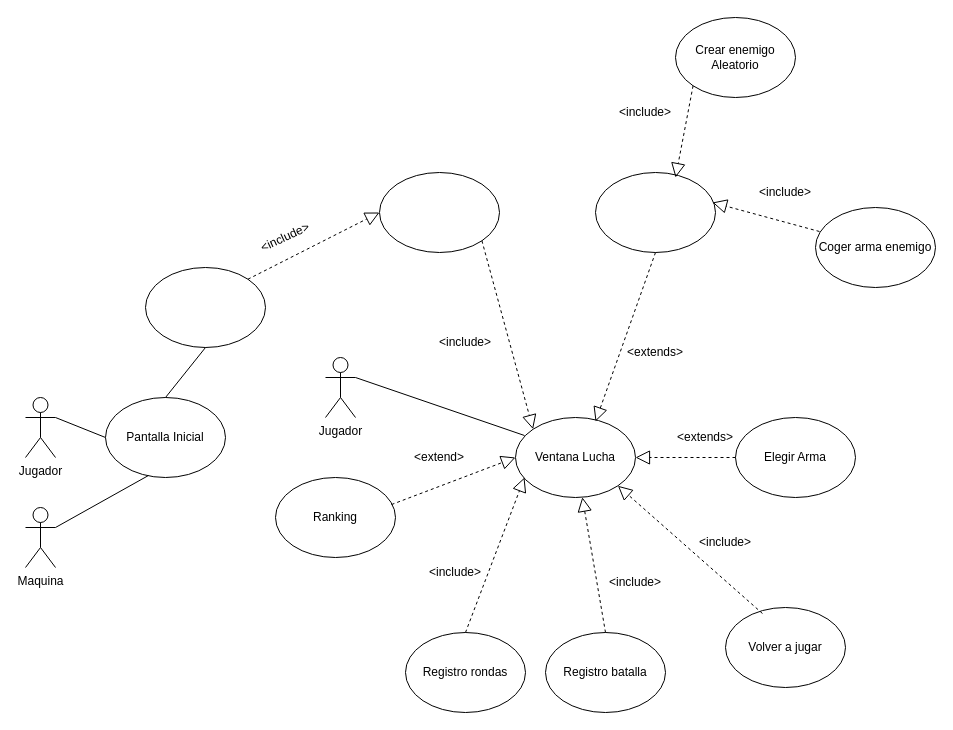
Some shapes in this 953 by 730 pixel diagram are drawn without their labels. The shapes that lost their labels are listed below. From the top down, each one's centre as x and y in pixels, then its label:
[439,212]: Registrar usuario en base de datos
[655,212]: Elegir Guerrero
[205,307]: Introducir usuario
